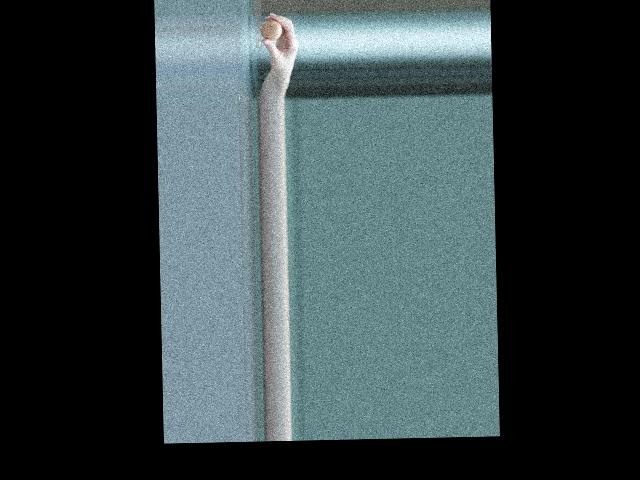egg: (260, 19, 282, 41)
